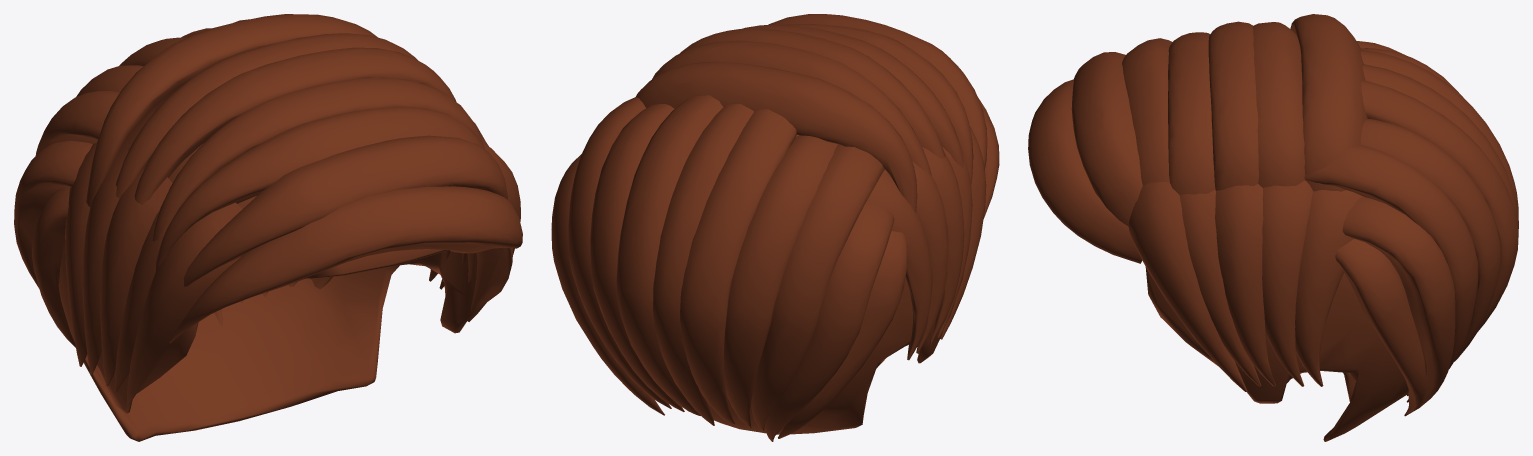
File: hair-9-ca7d165e.glb
3 renders of one model, left to right at view 1: azimuth 30°, elevation 25°; view 2: azimuth 150°, elevation 25°; view 3: azimuth 270°, elevation 25°, orthographic. The views are drawn at different scales.
Parts seen in each view (by area): view 1: hair_9.001; view 2: hair_9.001; view 3: hair_9.001.
Part boxes in pixels (x1,y1,x2,y2): hair_9.001: (14, 14, 522, 441); hair_9.001: (551, 14, 999, 441); hair_9.001: (1028, 14, 1518, 441).
Size of the model in its own units: 1.64 by 1.65 by 2.03.
